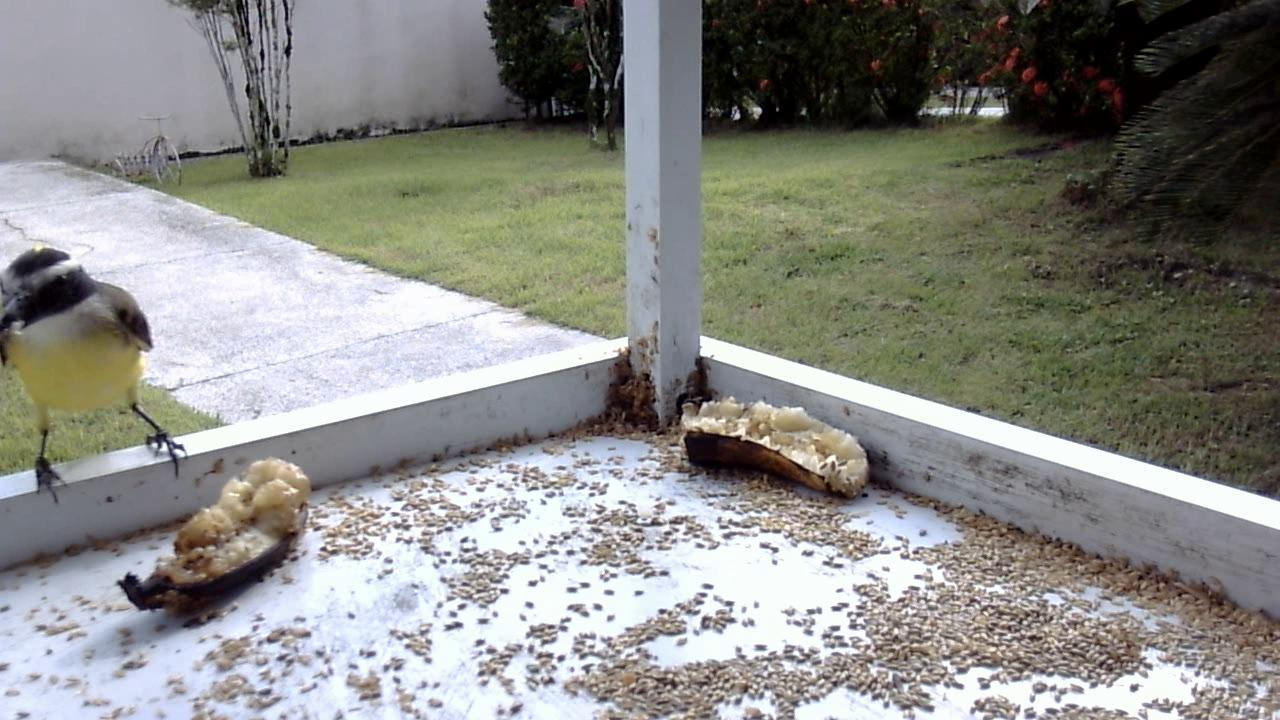bem_te_vi: (1, 226, 206, 513)
